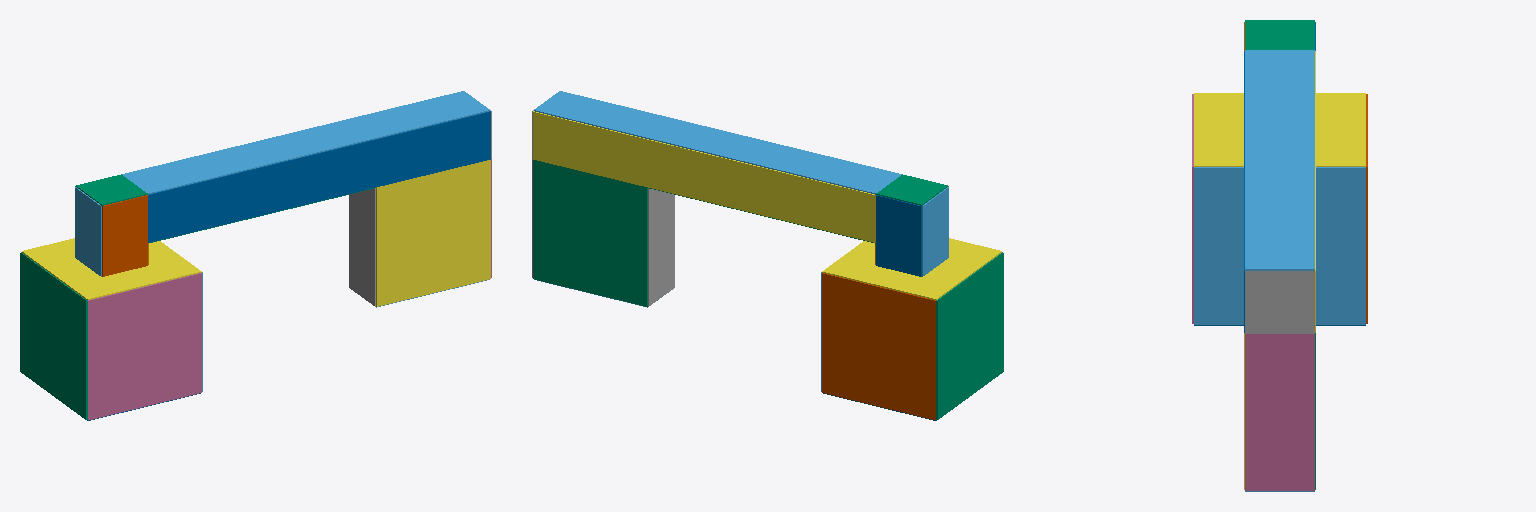
--- Render facts (derived) ---
The picture shows the robot from 3 angles, left to right: view 1: azimuth 30°, elevation 25°; view 2: azimuth 150°, elevation 25°; view 3: azimuth 270°, elevation 25°; orthographic projection.
Robot: robot — 37 links, 36 joints (1 continuous, 35 fixed); root link body; default pose: every joint at zero.
Visible links, largest first — view 1: arm_sensor_0_right, hand_1_sensor_0_right, body_sensor_0_right, arm_sensor_0_top, body_sensor_0_stop, body_sensor_0_top, shoulder_sensor_0_right, hand_1_sensor_0_stop, shoulder_sensor_0_stop, shoulder_sensor_0_top; view 2: arm_sensor_0_left, hand_1_sensor_0_left, body_sensor_0_left, arm_sensor_0_top, body_sensor_0_stop, body_sensor_0_top, shoulder_sensor_0_left, hand_1_sensor_0_stop, shoulder_sensor_0_stop, shoulder_sensor_0_top; view 3: body_sensor_0_start, arm_sensor_0_top, hand_1_sensor_0_start, body_sensor_0_top, arm_sensor_0_start, shoulder_sensor_0_top.
Boxes of the visible links, x1,y1,x2,y2 form: arm_sensor_0_right: (148, 111, 490, 242); hand_1_sensor_0_right: (376, 160, 490, 306); body_sensor_0_right: (88, 273, 201, 419); arm_sensor_0_top: (122, 91, 489, 194); body_sensor_0_stop: (20, 252, 87, 419); body_sensor_0_top: (22, 238, 201, 299); shoulder_sensor_0_right: (102, 195, 147, 276); hand_1_sensor_0_stop: (349, 188, 375, 306); shoulder_sensor_0_stop: (75, 187, 101, 276); shoulder_sensor_0_top: (76, 174, 147, 205); arm_sensor_0_left: (533, 111, 875, 242); hand_1_sensor_0_left: (533, 160, 647, 306); body_sensor_0_left: (822, 273, 935, 419); arm_sensor_0_top: (534, 91, 901, 194); body_sensor_0_stop: (936, 252, 1003, 419); body_sensor_0_top: (822, 238, 1001, 299); shoulder_sensor_0_left: (876, 195, 921, 276); hand_1_sensor_0_stop: (648, 188, 674, 306); shoulder_sensor_0_stop: (922, 187, 948, 276); shoulder_sensor_0_top: (876, 174, 947, 205); body_sensor_0_start: (1194, 167, 1365, 324); arm_sensor_0_top: (1245, 50, 1314, 270); hand_1_sensor_0_start: (1245, 334, 1314, 490); body_sensor_0_top: (1194, 93, 1365, 166); arm_sensor_0_start: (1245, 271, 1314, 333); shoulder_sensor_0_top: (1245, 20, 1314, 49).
Size in the robot's own frame: 3.72 by 1.02 by 1.62 metres.
Geometry: primitives only (box / cylinder / sphere), no mesh files.

The robot description file, URDF, robot "robot":
<?xml version="1.0"?>
<robot name="robot">


    <!-- body -->
    <link name="body">
        <inertial>
            <origin xyz="0 0 0" rpy="0 0 0"/>
            <mass value="100"/>
            <inertia ixx=".1" ixy=".1" ixz=".1" iyy=".1" iyz=".1" izz=".1"/>
        </inertial>
        <visual>
            <origin xyz="0 0 0" rpy="0 0 0"/>
            <geometry>
                <box size="1 1 1"/>
            </geometry>
        </visual>
        <collision>
            <origin xyz="0 0 0" rpy="0 0 0"/>
            <geometry>
                <box size="1 1 1"/>
            </geometry>
        </collision>
    </link>


    <!-- body_sensor_0_start -->
    <link name="body_sensor_0_start">
        <inertial>
            <origin xyz="0 0 0" rpy="0 0 0"/>
            <mass value="0"/>
            <inertia ixx=".1" ixy=".1" ixz=".1" iyy=".1" iyz=".1" izz=".1"/>
        </inertial>
        <visual>
            <origin xyz="0 0 0" rpy="0 0 0"/>
            <geometry>
                <box size="0.02 1 1"/>
            </geometry>
        </visual>
        <collision>
            <origin xyz="0 0 0" rpy="0 0 0"/>
            <geometry>
                <box size="0.02 1 1"/>
            </geometry>
        </collision>
    </link>
    <!-- Joint: body, body_sensor_0_start -->
    <joint name="body_body_sensor_0_start_joint" type="fixed">
        <parent link="body"/>
        <child link="body_sensor_0_start"/>
        <origin xyz="0.5 0 0"
                rpy="0 0 0"/>
        <axis xyz="0 0 1"/>
        
    </joint>


    <!-- body_sensor_0_stop -->
    <link name="body_sensor_0_stop">
        <inertial>
            <origin xyz="0 0 0" rpy="0 0 0"/>
            <mass value="0"/>
            <inertia ixx=".1" ixy=".1" ixz=".1" iyy=".1" iyz=".1" izz=".1"/>
        </inertial>
        <visual>
            <origin xyz="0 0 0" rpy="0 0 0"/>
            <geometry>
                <box size="0.02 1 1"/>
            </geometry>
        </visual>
        <collision>
            <origin xyz="0 0 0" rpy="0 0 0"/>
            <geometry>
                <box size="0.02 1 1"/>
            </geometry>
        </collision>
    </link>
    <!-- Joint: body, body_sensor_0_stop -->
    <joint name="body_body_sensor_0_stop_joint" type="fixed">
        <parent link="body"/>
        <child link="body_sensor_0_stop"/>
        <origin xyz="-0.5 0 0"
                rpy="0 0 0"/>
        <axis xyz="0 0 1"/>
        
    </joint>


    <!-- body_sensor_0_top -->
    <link name="body_sensor_0_top">
        <inertial>
            <origin xyz="0 0 0" rpy="0 0 0"/>
            <mass value="0"/>
            <inertia ixx=".1" ixy=".1" ixz=".1" iyy=".1" iyz=".1" izz=".1"/>
        </inertial>
        <visual>
            <origin xyz="0 0 0" rpy="0 0 0"/>
            <geometry>
                <box size="1.0 1 0.02"/>
            </geometry>
        </visual>
        <collision>
            <origin xyz="0 0 0" rpy="0 0 0"/>
            <geometry>
                <box size="1.0 1 0.02"/>
            </geometry>
        </collision>
    </link>
    <!-- Joint: body, body_sensor_0_top -->
    <joint name="body_body_sensor_0_top_joint" type="fixed">
        <parent link="body"/>
        <child link="body_sensor_0_top"/>
        <origin xyz="0 0 0.5"
                rpy="0 0 0"/>
        <axis xyz="0 0 1"/>
        
    </joint>


    <!-- body_sensor_0_bottom -->
    <link name="body_sensor_0_bottom">
        <inertial>
            <origin xyz="0 0 0" rpy="0 0 0"/>
            <mass value="0"/>
            <inertia ixx=".1" ixy=".1" ixz=".1" iyy=".1" iyz=".1" izz=".1"/>
        </inertial>
        <visual>
            <origin xyz="0 0 0" rpy="0 0 0"/>
            <geometry>
                <box size="1.0 1 0.02"/>
            </geometry>
        </visual>
        <collision>
            <origin xyz="0 0 0" rpy="0 0 0"/>
            <geometry>
                <box size="1.0 1 0.02"/>
            </geometry>
        </collision>
    </link>
    <!-- Joint: body, body_sensor_0_bottom -->
    <joint name="body_body_sensor_0_bottom_joint" type="fixed">
        <parent link="body"/>
        <child link="body_sensor_0_bottom"/>
        <origin xyz="0 0 -0.5"
                rpy="0 0 0"/>
        <axis xyz="0 0 1"/>
        
    </joint>


    <!-- body_sensor_0_left -->
    <link name="body_sensor_0_left">
        <inertial>
            <origin xyz="0 0 0" rpy="0 0 0"/>
            <mass value="0"/>
            <inertia ixx=".1" ixy=".1" ixz=".1" iyy=".1" iyz=".1" izz=".1"/>
        </inertial>
        <visual>
            <origin xyz="0 0 0" rpy="0 0 0"/>
            <geometry>
                <box size="1.0 0.02 1"/>
            </geometry>
        </visual>
        <collision>
            <origin xyz="0 0 0" rpy="0 0 0"/>
            <geometry>
                <box size="1.0 0.02 1"/>
            </geometry>
        </collision>
    </link>
    <!-- Joint: body, body_sensor_0_left -->
    <joint name="body_body_sensor_0_left_joint" type="fixed">
        <parent link="body"/>
        <child link="body_sensor_0_left"/>
        <origin xyz="0 0.5 0"
                rpy="0 0 0"/>
        <axis xyz="0 0 1"/>
        
    </joint>


    <!-- body_sensor_0_right -->
    <link name="body_sensor_0_right">
        <inertial>
            <origin xyz="0 0 0" rpy="0 0 0"/>
            <mass value="0"/>
            <inertia ixx=".1" ixy=".1" ixz=".1" iyy=".1" iyz=".1" izz=".1"/>
        </inertial>
        <visual>
            <origin xyz="0 0 0" rpy="0 0 0"/>
            <geometry>
                <box size="1.0 0.02 1"/>
            </geometry>
        </visual>
        <collision>
            <origin xyz="0 0 0" rpy="0 0 0"/>
            <geometry>
                <box size="1.0 0.02 1"/>
            </geometry>
        </collision>
    </link>
    <!-- Joint: body, body_sensor_0_right -->
    <joint name="body_body_sensor_0_right_joint" type="fixed">
        <parent link="body"/>
        <child link="body_sensor_0_right"/>
        <origin xyz="0 -0.5 0"
                rpy="0 0 0"/>
        <axis xyz="0 0 1"/>
        
    </joint>


    <!-- shoulder -->
    <link name="shoulder">
        <inertial>
            <origin xyz="0 0 0" rpy="0 0 0"/>
            <mass value="10"/>
            <inertia ixx=".1" ixy=".1" ixz=".1" iyy=".1" iyz=".1" izz=".1"/>
        </inertial>
        <visual>
            <origin xyz="0 0 0" rpy="0 0 0"/>
            <geometry>
                <box size="0.4 0.4 0.8"/>
            </geometry>
        </visual>
        <collision>
            <origin xyz="0 0 0" rpy="0 0 0"/>
            <geometry>
                <box size="0.4 0.4 0.8"/>
            </geometry>
        </collision>
    </link>


    <!-- shoulder_sensor_0_start -->
    <link name="shoulder_sensor_0_start">
        <inertial>
            <origin xyz="0 0 0" rpy="0 0 0"/>
            <mass value="0"/>
            <inertia ixx=".1" ixy=".1" ixz=".1" iyy=".1" iyz=".1" izz=".1"/>
        </inertial>
        <visual>
            <origin xyz="0 0 0" rpy="0 0 0"/>
            <geometry>
                <box size="0.02 0.4 0.8"/>
            </geometry>
        </visual>
        <collision>
            <origin xyz="0 0 0" rpy="0 0 0"/>
            <geometry>
                <box size="0.02 0.4 0.8"/>
            </geometry>
        </collision>
    </link>
    <!-- Joint: shoulder, shoulder_sensor_0_start -->
    <joint name="shoulder_shoulder_sensor_0_start_joint" type="fixed">
        <parent link="shoulder"/>
        <child link="shoulder_sensor_0_start"/>
        <origin xyz="0.2 0 0"
                rpy="0 0 0"/>
        <axis xyz="0 0 1"/>
        
    </joint>


    <!-- shoulder_sensor_0_stop -->
    <link name="shoulder_sensor_0_stop">
        <inertial>
            <origin xyz="0 0 0" rpy="0 0 0"/>
            <mass value="0"/>
            <inertia ixx=".1" ixy=".1" ixz=".1" iyy=".1" iyz=".1" izz=".1"/>
        </inertial>
        <visual>
            <origin xyz="0 0 0" rpy="0 0 0"/>
            <geometry>
                <box size="0.02 0.4 0.8"/>
            </geometry>
        </visual>
        <collision>
            <origin xyz="0 0 0" rpy="0 0 0"/>
            <geometry>
                <box size="0.02 0.4 0.8"/>
            </geometry>
        </collision>
    </link>
    <!-- Joint: shoulder, shoulder_sensor_0_stop -->
    <joint name="shoulder_shoulder_sensor_0_stop_joint" type="fixed">
        <parent link="shoulder"/>
        <child link="shoulder_sensor_0_stop"/>
        <origin xyz="-0.2 0 0"
                rpy="0 0 0"/>
        <axis xyz="0 0 1"/>
        
    </joint>


    <!-- shoulder_sensor_0_top -->
    <link name="shoulder_sensor_0_top">
        <inertial>
            <origin xyz="0 0 0" rpy="0 0 0"/>
            <mass value="0"/>
            <inertia ixx=".1" ixy=".1" ixz=".1" iyy=".1" iyz=".1" izz=".1"/>
        </inertial>
        <visual>
            <origin xyz="0 0 0" rpy="0 0 0"/>
            <geometry>
                <box size="0.4 0.4 0.02"/>
            </geometry>
        </visual>
        <collision>
            <origin xyz="0 0 0" rpy="0 0 0"/>
            <geometry>
                <box size="0.4 0.4 0.02"/>
            </geometry>
        </collision>
    </link>
    <!-- Joint: shoulder, shoulder_sensor_0_top -->
    <joint name="shoulder_shoulder_sensor_0_top_joint" type="fixed">
        <parent link="shoulder"/>
        <child link="shoulder_sensor_0_top"/>
        <origin xyz="0 0 0.4"
                rpy="0 0 0"/>
        <axis xyz="0 0 1"/>
        
    </joint>


    <!-- shoulder_sensor_0_bottom -->
    <link name="shoulder_sensor_0_bottom">
        <inertial>
            <origin xyz="0 0 0" rpy="0 0 0"/>
            <mass value="0"/>
            <inertia ixx=".1" ixy=".1" ixz=".1" iyy=".1" iyz=".1" izz=".1"/>
        </inertial>
        <visual>
            <origin xyz="0 0 0" rpy="0 0 0"/>
            <geometry>
                <box size="0.4 0.4 0.02"/>
            </geometry>
        </visual>
        <collision>
            <origin xyz="0 0 0" rpy="0 0 0"/>
            <geometry>
                <box size="0.4 0.4 0.02"/>
            </geometry>
        </collision>
    </link>
    <!-- Joint: shoulder, shoulder_sensor_0_bottom -->
    <joint name="shoulder_shoulder_sensor_0_bottom_joint" type="fixed">
        <parent link="shoulder"/>
        <child link="shoulder_sensor_0_bottom"/>
        <origin xyz="0 0 -0.4"
                rpy="0 0 0"/>
        <axis xyz="0 0 1"/>
        
    </joint>


    <!-- shoulder_sensor_0_left -->
    <link name="shoulder_sensor_0_left">
        <inertial>
            <origin xyz="0 0 0" rpy="0 0 0"/>
            <mass value="0"/>
            <inertia ixx=".1" ixy=".1" ixz=".1" iyy=".1" iyz=".1" izz=".1"/>
        </inertial>
        <visual>
            <origin xyz="0 0 0" rpy="0 0 0"/>
            <geometry>
                <box size="0.4 0.02 0.8"/>
            </geometry>
        </visual>
        <collision>
            <origin xyz="0 0 0" rpy="0 0 0"/>
            <geometry>
                <box size="0.4 0.02 0.8"/>
            </geometry>
        </collision>
    </link>
    <!-- Joint: shoulder, shoulder_sensor_0_left -->
    <joint name="shoulder_shoulder_sensor_0_left_joint" type="fixed">
        <parent link="shoulder"/>
        <child link="shoulder_sensor_0_left"/>
        <origin xyz="0 0.2 0"
                rpy="0 0 0"/>
        <axis xyz="0 0 1"/>
        
    </joint>


    <!-- shoulder_sensor_0_right -->
    <link name="shoulder_sensor_0_right">
        <inertial>
            <origin xyz="0 0 0" rpy="0 0 0"/>
            <mass value="0"/>
            <inertia ixx=".1" ixy=".1" ixz=".1" iyy=".1" iyz=".1" izz=".1"/>
        </inertial>
        <visual>
            <origin xyz="0 0 0" rpy="0 0 0"/>
            <geometry>
                <box size="0.4 0.02 0.8"/>
            </geometry>
        </visual>
        <collision>
            <origin xyz="0 0 0" rpy="0 0 0"/>
            <geometry>
                <box size="0.4 0.02 0.8"/>
            </geometry>
        </collision>
    </link>
    <!-- Joint: shoulder, shoulder_sensor_0_right -->
    <joint name="shoulder_shoulder_sensor_0_right_joint" type="fixed">
        <parent link="shoulder"/>
        <child link="shoulder_sensor_0_right"/>
        <origin xyz="0 -0.2 0"
                rpy="0 0 0"/>
        <axis xyz="0 0 1"/>
        
    </joint>
    <!-- Joint: body, shoulder -->
    <joint name="body_shoulder_joint" type="continuous">
        <parent link="body"/>
        <child link="shoulder"/>
        <origin xyz="0 0 0.7"
                rpy="0 0 0"/>
        <axis xyz="0 0 1"/>
        <limit lower="0" upper="0" effort="0" velocity="0"/>
    </joint>


    <!-- arm -->
    <link name="arm">
        <inertial>
            <origin xyz="0 0 0" rpy="0 0 0"/>
            <mass value="10"/>
            <inertia ixx=".1" ixy=".1" ixz=".1" iyy=".1" iyz=".1" izz=".1"/>
        </inertial>
        <visual>
            <origin xyz="0 0 0" rpy="0 0 0"/>
            <geometry>
                <box size="3 0.4 0.4"/>
            </geometry>
        </visual>
        <collision>
            <origin xyz="0 0 0" rpy="0 0 0"/>
            <geometry>
                <box size="3 0.4 0.4"/>
            </geometry>
        </collision>
    </link>


    <!-- arm_sensor_0_start -->
    <link name="arm_sensor_0_start">
        <inertial>
            <origin xyz="0 0 0" rpy="0 0 0"/>
            <mass value="0"/>
            <inertia ixx=".1" ixy=".1" ixz=".1" iyy=".1" iyz=".1" izz=".1"/>
        </inertial>
        <visual>
            <origin xyz="0 0 0" rpy="0 0 0"/>
            <geometry>
                <box size="0.02 0.4 0.4"/>
            </geometry>
        </visual>
        <collision>
            <origin xyz="0 0 0" rpy="0 0 0"/>
            <geometry>
                <box size="0.02 0.4 0.4"/>
            </geometry>
        </collision>
    </link>
    <!-- Joint: arm, arm_sensor_0_start -->
    <joint name="arm_arm_sensor_0_start_joint" type="fixed">
        <parent link="arm"/>
        <child link="arm_sensor_0_start"/>
        <origin xyz="1.5 0 0"
                rpy="0 0 0"/>
        <axis xyz="0 1 0"/>
        
    </joint>


    <!-- arm_sensor_0_stop -->
    <link name="arm_sensor_0_stop">
        <inertial>
            <origin xyz="0 0 0" rpy="0 0 0"/>
            <mass value="0"/>
            <inertia ixx=".1" ixy=".1" ixz=".1" iyy=".1" iyz=".1" izz=".1"/>
        </inertial>
        <visual>
            <origin xyz="0 0 0" rpy="0 0 0"/>
            <geometry>
                <box size="0.02 0.4 0.4"/>
            </geometry>
        </visual>
        <collision>
            <origin xyz="0 0 0" rpy="0 0 0"/>
            <geometry>
                <box size="0.02 0.4 0.4"/>
            </geometry>
        </collision>
    </link>
    <!-- Joint: arm, arm_sensor_0_stop -->
    <joint name="arm_arm_sensor_0_stop_joint" type="fixed">
        <parent link="arm"/>
        <child link="arm_sensor_0_stop"/>
        <origin xyz="-1.5 0 0"
                rpy="0 0 0"/>
        <axis xyz="0 1 0"/>
        
    </joint>


    <!-- arm_sensor_0_top -->
    <link name="arm_sensor_0_top">
        <inertial>
            <origin xyz="0 0 0" rpy="0 0 0"/>
            <mass value="0"/>
            <inertia ixx=".1" ixy=".1" ixz=".1" iyy=".1" iyz=".1" izz=".1"/>
        </inertial>
        <visual>
            <origin xyz="0 0 0" rpy="0 0 0"/>
            <geometry>
                <box size="3.0 0.4 0.02"/>
            </geometry>
        </visual>
        <collision>
            <origin xyz="0 0 0" rpy="0 0 0"/>
            <geometry>
                <box size="3.0 0.4 0.02"/>
            </geometry>
        </collision>
    </link>
    <!-- Joint: arm, arm_sensor_0_top -->
    <joint name="arm_arm_sensor_0_top_joint" type="fixed">
        <parent link="arm"/>
        <child link="arm_sensor_0_top"/>
        <origin xyz="0 0 0.2"
                rpy="0 0 0"/>
        <axis xyz="0 1 0"/>
        
    </joint>


    <!-- arm_sensor_0_bottom -->
    <link name="arm_sensor_0_bottom">
        <inertial>
            <origin xyz="0 0 0" rpy="0 0 0"/>
            <mass value="0"/>
            <inertia ixx=".1" ixy=".1" ixz=".1" iyy=".1" iyz=".1" izz=".1"/>
        </inertial>
        <visual>
            <origin xyz="0 0 0" rpy="0 0 0"/>
            <geometry>
                <box size="3.0 0.4 0.02"/>
            </geometry>
        </visual>
        <collision>
            <origin xyz="0 0 0" rpy="0 0 0"/>
            <geometry>
                <box size="3.0 0.4 0.02"/>
            </geometry>
        </collision>
    </link>
    <!-- Joint: arm, arm_sensor_0_bottom -->
    <joint name="arm_arm_sensor_0_bottom_joint" type="fixed">
        <parent link="arm"/>
        <child link="arm_sensor_0_bottom"/>
        <origin xyz="0 0 -0.2"
                rpy="0 0 0"/>
        <axis xyz="0 1 0"/>
        
    </joint>


    <!-- arm_sensor_0_left -->
    <link name="arm_sensor_0_left">
        <inertial>
            <origin xyz="0 0 0" rpy="0 0 0"/>
            <mass value="0"/>
            <inertia ixx=".1" ixy=".1" ixz=".1" iyy=".1" iyz=".1" izz=".1"/>
        </inertial>
        <visual>
            <origin xyz="0 0 0" rpy="0 0 0"/>
            <geometry>
                <box size="3.0 0.02 0.4"/>
            </geometry>
        </visual>
        <collision>
            <origin xyz="0 0 0" rpy="0 0 0"/>
            <geometry>
                <box size="3.0 0.02 0.4"/>
            </geometry>
        </collision>
    </link>
    <!-- Joint: arm, arm_sensor_0_left -->
    <joint name="arm_arm_sensor_0_left_joint" type="fixed">
        <parent link="arm"/>
        <child link="arm_sensor_0_left"/>
        <origin xyz="0 0.2 0"
                rpy="0 0 0"/>
        <axis xyz="0 1 0"/>
        
    </joint>


    <!-- arm_sensor_0_right -->
    <link name="arm_sensor_0_right">
        <inertial>
            <origin xyz="0 0 0" rpy="0 0 0"/>
            <mass value="0"/>
            <inertia ixx=".1" ixy=".1" ixz=".1" iyy=".1" iyz=".1" izz=".1"/>
        </inertial>
        <visual>
            <origin xyz="0 0 0" rpy="0 0 0"/>
            <geometry>
                <box size="3.0 0.02 0.4"/>
            </geometry>
        </visual>
        <collision>
            <origin xyz="0 0 0" rpy="0 0 0"/>
            <geometry>
                <box size="3.0 0.02 0.4"/>
            </geometry>
        </collision>
    </link>
    <!-- Joint: arm, arm_sensor_0_right -->
    <joint name="arm_arm_sensor_0_right_joint" type="fixed">
        <parent link="arm"/>
        <child link="arm_sensor_0_right"/>
        <origin xyz="0 -0.2 0"
                rpy="0 0 0"/>
        <axis xyz="0 1 0"/>
        
    </joint>
    <!-- Joint: shoulder, arm -->
    <joint name="shoulder_arm_joint" type="fixed">
        <parent link="shoulder"/>
        <child link="arm"/>
        <origin xyz="1.7 0 0.2"
                rpy="0 0 0"/>
        <axis xyz="0 1 0"/>
        
    </joint>


    <!-- hand_1 -->
    <link name="hand_1">
        <inertial>
            <origin xyz="0 0 0" rpy="0 0 0"/>
            <mass value="10"/>
            <inertia ixx=".1" ixy=".1" ixz=".1" iyy=".1" iyz=".1" izz=".1"/>
        </inertial>
        <visual>
            <origin xyz="0 0 0" rpy="0 0 0"/>
            <geometry>
                <box size="1 0.4 1"/>
            </geometry>
        </visual>
        <collision>
            <origin xyz="0 0 0" rpy="0 0 0"/>
            <geometry>
                <box size="1 0.4 1"/>
            </geometry>
        </collision>
    </link>


    <!-- hand_1_sensor_0_start -->
    <link name="hand_1_sensor_0_start">
        <inertial>
            <origin xyz="0 0 0" rpy="0 0 0"/>
            <mass value="0"/>
            <inertia ixx=".1" ixy=".1" ixz=".1" iyy=".1" iyz=".1" izz=".1"/>
        </inertial>
        <visual>
            <origin xyz="0 0 0" rpy="0 0 0"/>
            <geometry>
                <box size="0.02 0.4 1"/>
            </geometry>
        </visual>
        <collision>
            <origin xyz="0 0 0" rpy="0 0 0"/>
            <geometry>
                <box size="0.02 0.4 1"/>
            </geometry>
        </collision>
    </link>
    <!-- Joint: hand_1, hand_1_sensor_0_start -->
    <joint name="hand_1_hand_1_sensor_0_start_joint" type="fixed">
        <parent link="hand_1"/>
        <child link="hand_1_sensor_0_start"/>
        <origin xyz="0.5 0 0"
                rpy="0 0 0"/>
        <axis xyz="0 1 0"/>
        
    </joint>


    <!-- hand_1_sensor_0_stop -->
    <link name="hand_1_sensor_0_stop">
        <inertial>
            <origin xyz="0 0 0" rpy="0 0 0"/>
            <mass value="0"/>
            <inertia ixx=".1" ixy=".1" ixz=".1" iyy=".1" iyz=".1" izz=".1"/>
        </inertial>
        <visual>
            <origin xyz="0 0 0" rpy="0 0 0"/>
            <geometry>
                <box size="0.02 0.4 1"/>
            </geometry>
        </visual>
        <collision>
            <origin xyz="0 0 0" rpy="0 0 0"/>
            <geometry>
                <box size="0.02 0.4 1"/>
            </geometry>
        </collision>
    </link>
    <!-- Joint: hand_1, hand_1_sensor_0_stop -->
    <joint name="hand_1_hand_1_sensor_0_stop_joint" type="fixed">
        <parent link="hand_1"/>
        <child link="hand_1_sensor_0_stop"/>
        <origin xyz="-0.5 0 0"
                rpy="0 0 0"/>
        <axis xyz="0 1 0"/>
        
    </joint>


    <!-- hand_1_sensor_0_top -->
    <link name="hand_1_sensor_0_top">
        <inertial>
            <origin xyz="0 0 0" rpy="0 0 0"/>
            <mass value="0"/>
            <inertia ixx=".1" ixy=".1" ixz=".1" iyy=".1" iyz=".1" izz=".1"/>
        </inertial>
        <visual>
            <origin xyz="0 0 0" rpy="0 0 0"/>
            <geometry>
                <box size="1.0 0.4 0.02"/>
            </geometry>
        </visual>
        <collision>
            <origin xyz="0 0 0" rpy="0 0 0"/>
            <geometry>
                <box size="1.0 0.4 0.02"/>
            </geometry>
        </collision>
    </link>
    <!-- Joint: hand_1, hand_1_sensor_0_top -->
    <joint name="hand_1_hand_1_sensor_0_top_joint" type="fixed">
        <parent link="hand_1"/>
        <child link="hand_1_sensor_0_top"/>
        <origin xyz="0 0 0.5"
                rpy="0 0 0"/>
        <axis xyz="0 1 0"/>
        
    </joint>


    <!-- hand_1_sensor_0_bottom -->
    <link name="hand_1_sensor_0_bottom">
        <inertial>
            <origin xyz="0 0 0" rpy="0 0 0"/>
            <mass value="0"/>
            <inertia ixx=".1" ixy=".1" ixz=".1" iyy=".1" iyz=".1" izz=".1"/>
        </inertial>
        <visual>
            <origin xyz="0 0 0" rpy="0 0 0"/>
            <geometry>
                <box size="1.0 0.4 0.02"/>
            </geometry>
        </visual>
        <collision>
            <origin xyz="0 0 0" rpy="0 0 0"/>
            <geometry>
                <box size="1.0 0.4 0.02"/>
            </geometry>
        </collision>
    </link>
    <!-- Joint: hand_1, hand_1_sensor_0_bottom -->
    <joint name="hand_1_hand_1_sensor_0_bottom_joint" type="fixed">
        <parent link="hand_1"/>
        <child link="hand_1_sensor_0_bottom"/>
        <origin xyz="0 0 -0.5"
                rpy="0 0 0"/>
        <axis xyz="0 1 0"/>
        
    </joint>


    <!-- hand_1_sensor_0_left -->
    <link name="hand_1_sensor_0_left">
        <inertial>
            <origin xyz="0 0 0" rpy="0 0 0"/>
            <mass value="0"/>
            <inertia ixx=".1" ixy=".1" ixz=".1" iyy=".1" iyz=".1" izz=".1"/>
        </inertial>
        <visual>
            <origin xyz="0 0 0" rpy="0 0 0"/>
            <geometry>
                <box size="1.0 0.02 1"/>
            </geometry>
        </visual>
        <collision>
            <origin xyz="0 0 0" rpy="0 0 0"/>
            <geometry>
                <box size="1.0 0.02 1"/>
            </geometry>
        </collision>
    </link>
    <!-- Joint: hand_1, hand_1_sensor_0_left -->
    <joint name="hand_1_hand_1_sensor_0_left_joint" type="fixed">
        <parent link="hand_1"/>
        <child link="hand_1_sensor_0_left"/>
        <origin xyz="0 0.2 0"
                rpy="0 0 0"/>
        <axis xyz="0 1 0"/>
        
    </joint>


    <!-- hand_1_sensor_0_right -->
    <link name="hand_1_sensor_0_right">
        <inertial>
            <origin xyz="0 0 0" rpy="0 0 0"/>
            <mass value="0"/>
            <inertia ixx=".1" ixy=".1" ixz=".1" iyy=".1" iyz=".1" izz=".1"/>
        </inertial>
        <visual>
            <origin xyz="0 0 0" rpy="0 0 0"/>
            <geometry>
                <box size="1.0 0.02 1"/>
            </geometry>
        </visual>
        <collision>
            <origin xyz="0 0 0" rpy="0 0 0"/>
            <geometry>
                <box size="1.0 0.02 1"/>
            </geometry>
        </collision>
    </link>
    <!-- Joint: hand_1, hand_1_sensor_0_right -->
    <joint name="hand_1_hand_1_sensor_0_right_joint" type="fixed">
        <parent link="hand_1"/>
        <child link="hand_1_sensor_0_right"/>
        <origin xyz="0 -0.2 0"
                rpy="0 0 0"/>
        <axis xyz="0 1 0"/>
        
    </joint>
    <!-- Joint: arm, hand_1 -->
    <joint name="arm_hand_1_joint" type="fixed">
        <parent link="arm"/>
        <child link="hand_1"/>
        <origin xyz="1.0 0 -0.7"
                rpy="0 0 0"/>
        <axis xyz="0 1 0"/>
        
    </joint>


    <!-- body_face_0 -->
    <link name="body_face_0">
        <inertial>
            <origin xyz="0 0 0" rpy="0 0 0"/>
            <mass value="0"/>
            <inertia ixx=".1" ixy=".1" ixz=".1" iyy=".1" iyz=".1" izz=".1"/>
        </inertial>
        <visual>
            <origin xyz="0 0 0" rpy="0 0 0"/>
            <geometry>
                <box size="0.002 0.1111111111111111 0.1111111111111111"/>
            </geometry>
        </visual>
        <collision>
            <origin xyz="0 0 0" rpy="0 0 0"/>
            <geometry>
                <box size="0.002 0.1111111111111111 0.1111111111111111"/>
            </geometry>
        </collision>
    </link>
    <!-- Joint: body, body_face_0 -->
    <joint name="body_body_face_0_joint" type="fixed">
        <parent link="body"/>
        <child link="body_face_0"/>
        <origin xyz="0.501 -0.33333333333333337 0.11111111111111116"
                rpy="0 0 0"/>
        <axis xyz="0 0 1"/>
        
    </joint>


    <!-- body_face_1 -->
    <link name="body_face_1">
        <inertial>
            <origin xyz="0 0 0" rpy="0 0 0"/>
            <mass value="0"/>
            <inertia ixx=".1" ixy=".1" ixz=".1" iyy=".1" iyz=".1" izz=".1"/>
        </inertial>
        <visual>
            <origin xyz="0 0 0" rpy="0 0 0"/>
            <geometry>
                <box size="0.002 0.1111111111111111 0.1111111111111111"/>
            </geometry>
        </visual>
        <collision>
            <origin xyz="0 0 0" rpy="0 0 0"/>
            <geometry>
                <box size="0.002 0.1111111111111111 0.1111111111111111"/>
            </geometry>
        </collision>
    </link>
    <!-- Joint: body, body_face_1 -->
    <joint name="body_body_face_1_joint" type="fixed">
        <parent link="body"/>
        <child link="body_face_1"/>
        <origin xyz="0.501 -0.2222222222222222 0.2222222222222222"
                rpy="0 0 0"/>
        <axis xyz="0 0 1"/>
        
    </joint>


    <!-- body_face_2 -->
    <link name="body_face_2">
        <inertial>
            <origin xyz="0 0 0" rpy="0 0 0"/>
            <mass value="0"/>
            <inertia ixx=".1" ixy=".1" ixz=".1" iyy=".1" iyz=".1" izz=".1"/>
        </inertial>
        <visual>
            <origin xyz="0 0 0" rpy="0 0 0"/>
            <geometry>
                <box size="0.002 0.1111111111111111 0.1111111111111111"/>
            </geometry>
        </visual>
        <collision>
            <origin xyz="0 0 0" rpy="0 0 0"/>
            <geometry>
                <box size="0.002 0.1111111111111111 0.1111111111111111"/>
            </geometry>
        </collision>
    </link>
    <!-- Joint: body, body_face_2 -->
    <joint name="body_body_face_2_joint" type="fixed">
        <parent link="body"/>
        <child link="body_face_2"/>
        <origin xyz="0.501 -0.1111111111111111 0.11111111111111116"
                rpy="0 0 0"/>
        <axis xyz="0 0 1"/>
        
    </joint>


    <!-- body_face_3 -->
    <link name="body_face_3">
        <inertial>
            <origin xyz="0 0 0" rpy="0 0 0"/>
            <mass value="0"/>
            <inertia ixx=".1" ixy=".1" ixz=".1" iyy=".1" iyz=".1" izz=".1"/>
        </inertial>
        <visual>
            <origin xyz="0 0 0" rpy="0 0 0"/>
            <geometry>
                <box size="0.002 0.1111111111111111 0.1111111111111111"/>
            </geometry>
        </visual>
        <collision>
            <origin xyz="0 0 0" rpy="0 0 0"/>
            <geometry>
                <box size="0.002 0.1111111111111111 0.1111111111111111"/>
            </geometry>
        </collision>
    </link>
    <!-- Joint: body, body_face_3 -->
    <joint name="body_body_face_3_joint" type="fixed">
        <parent link="body"/>
        <child link="body_face_3"/>
        <origin xyz="0.501 -0.1111111111111111 -0.2222222222222222"
                rpy="0 0 0"/>
        <axis xyz="0 0 1"/>
        
    </joint>


    <!-- body_face_4 -->
    <link name="body_face_4">
        <inertial>
            <origin xyz="0 0 0" rpy="0 0 0"/>
            <mass value="0"/>
            <inertia ixx=".1" ixy=".1" ixz=".1" iyy=".1" iyz=".1" izz=".1"/>
        </inertial>
        <visual>
            <origin xyz="0 0 0" rpy="0 0 0"/>
            <geometry>
                <box size="0.002 0.1111111111111111 0.1111111111111111"/>
            </geometry>
        </visual>
        <collision>
            <origin xyz="0 0 0" rpy="0 0 0"/>
            <geometry>
                <box size="0.002 0.1111111111111111 0.1111111111111111"/>
            </geometry>
        </collision>
    </link>
    <!-- Joint: body, body_face_4 -->
    <joint name="body_body_face_4_joint" type="fixed">
        <parent link="body"/>
        <child link="body_face_4"/>
        <origin xyz="0.501 0.0 -0.2222222222222222"
                rpy="0 0 0"/>
        <axis xyz="0 0 1"/>
        
    </joint>


    <!-- body_face_5 -->
    <link name="body_face_5">
        <inertial>
            <origin xyz="0 0 0" rpy="0 0 0"/>
            <mass value="0"/>
            <inertia ixx=".1" ixy=".1" ixz=".1" iyy=".1" iyz=".1" izz=".1"/>
        </inertial>
        <visual>
            <origin xyz="0 0 0" rpy="0 0 0"/>
            <geometry>
                <box size="0.002 0.1111111111111111 0.1111111111111111"/>
            </geometry>
        </visual>
        <collision>
            <origin xyz="0 0 0" rpy="0 0 0"/>
            <geometry>
                <box size="0.002 0.1111111111111111 0.1111111111111111"/>
            </geometry>
        </collision>
    </link>
    <!-- Joint: body, body_face_5 -->
    <joint name="body_body_face_5_joint" type="fixed">
        <parent link="body"/>
        <child link="body_face_5"/>
        <origin xyz="0.501 0.11111111111111116 0.11111111111111116"
                rpy="0 0 0"/>
        <axis xyz="0 0 1"/>
        
    </joint>


    <!-- body_face_6 -->
    <link name="body_face_6">
        <inertial>
            <origin xyz="0 0 0" rpy="0 0 0"/>
            <mass value="0"/>
            <inertia ixx=".1" ixy=".1" ixz=".1" iyy=".1" iyz=".1" izz=".1"/>
        </inertial>
        <visual>
            <origin xyz="0 0 0" rpy="0 0 0"/>
            <geometry>
                <box size="0.002 0.1111111111111111 0.1111111111111111"/>
            </geometry>
        </visual>
        <collision>
            <origin xyz="0 0 0" rpy="0 0 0"/>
            <geometry>
                <box size="0.002 0.1111111111111111 0.1111111111111111"/>
            </geometry>
        </collision>
    </link>
    <!-- Joint: body, body_face_6 -->
    <joint name="body_body_face_6_joint" type="fixed">
        <parent link="body"/>
        <child link="body_face_6"/>
        <origin xyz="0.501 0.11111111111111116 -0.2222222222222222"
                rpy="0 0 0"/>
        <axis xyz="0 0 1"/>
        
    </joint>


    <!-- body_face_7 -->
    <link name="body_face_7">
        <inertial>
            <origin xyz="0 0 0" rpy="0 0 0"/>
            <mass value="0"/>
            <inertia ixx=".1" ixy=".1" ixz=".1" iyy=".1" iyz=".1" izz=".1"/>
        </inertial>
        <visual>
            <origin xyz="0 0 0" rpy="0 0 0"/>
            <geometry>
                <box size="0.002 0.1111111111111111 0.1111111111111111"/>
            </geometry>
        </visual>
        <collision>
            <origin xyz="0 0 0" rpy="0 0 0"/>
            <geometry>
                <box size="0.002 0.1111111111111111 0.1111111111111111"/>
            </geometry>
        </collision>
    </link>
    <!-- Joint: body, body_face_7 -->
    <joint name="body_body_face_7_joint" type="fixed">
        <parent link="body"/>
        <child link="body_face_7"/>
        <origin xyz="0.501 0.2222222222222222 0.2222222222222222"
                rpy="0 0 0"/>
        <axis xyz="0 0 1"/>
        
    </joint>


    <!-- body_face_8 -->
    <link name="body_face_8">
        <inertial>
            <origin xyz="0 0 0" rpy="0 0 0"/>
            <mass value="0"/>
            <inertia ixx=".1" ixy=".1" ixz=".1" iyy=".1" iyz=".1" izz=".1"/>
        </inertial>
        <visual>
            <origin xyz="0 0 0" rpy="0 0 0"/>
            <geometry>
                <box size="0.002 0.1111111111111111 0.1111111111111111"/>
            </geometry>
        </visual>
        <collision>
            <origin xyz="0 0 0" rpy="0 0 0"/>
            <geometry>
                <box size="0.002 0.1111111111111111 0.1111111111111111"/>
            </geometry>
        </collision>
    </link>
    <!-- Joint: body, body_face_8 -->
    <joint name="body_body_face_8_joint" type="fixed">
        <parent link="body"/>
        <child link="body_face_8"/>
        <origin xyz="0.501 0.33333333333333337 0.11111111111111116"
                rpy="0 0 0"/>
        <axis xyz="0 0 1"/>
        
    </joint>


</robot>
